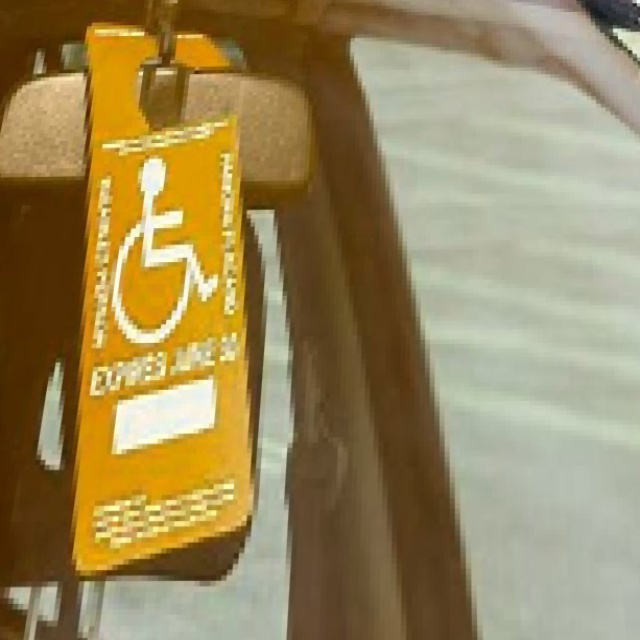ISA: (96, 154, 234, 346)
